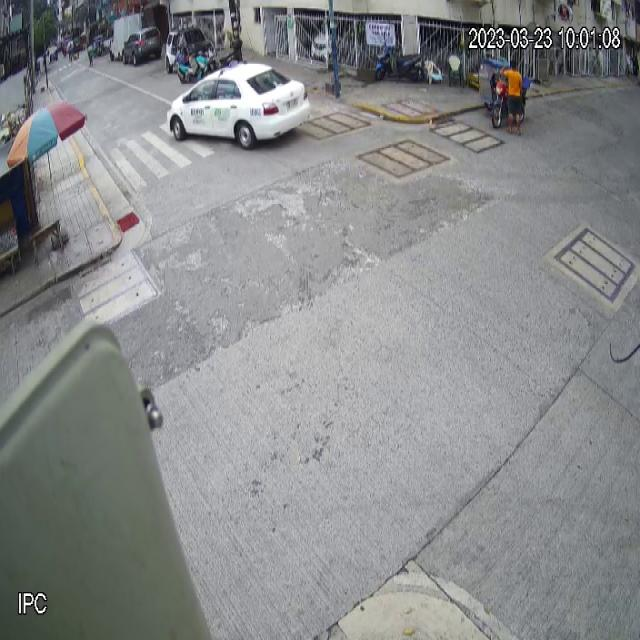Car: (167, 61, 311, 150)
